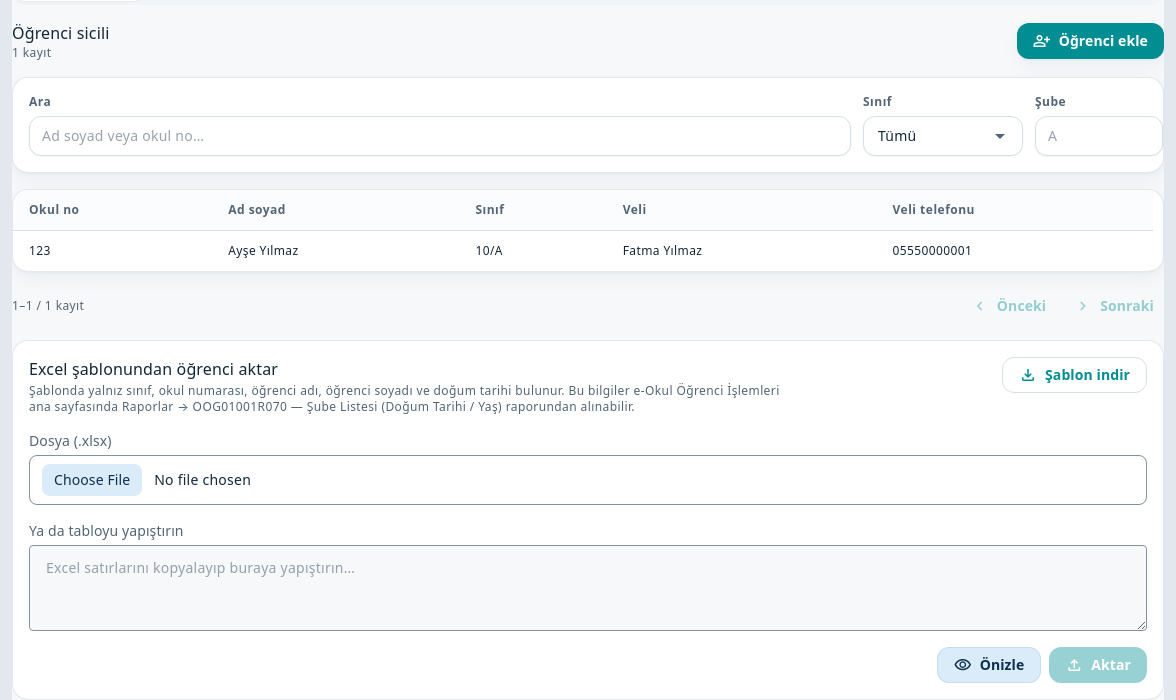
Test: KisilerPage — içe aktarma paneli › önizleme hatası: backend mesajı bantta görünür, Aktar kapalı kalır
(page scrolled)
Expected: the text "Ayşe Yılmaz" is shown, [212, 230, 459, 271]
In the text box labelled "Ya da tabloyu yapıştırın": (588, 588) [29, 545, 1147, 631], type "x"
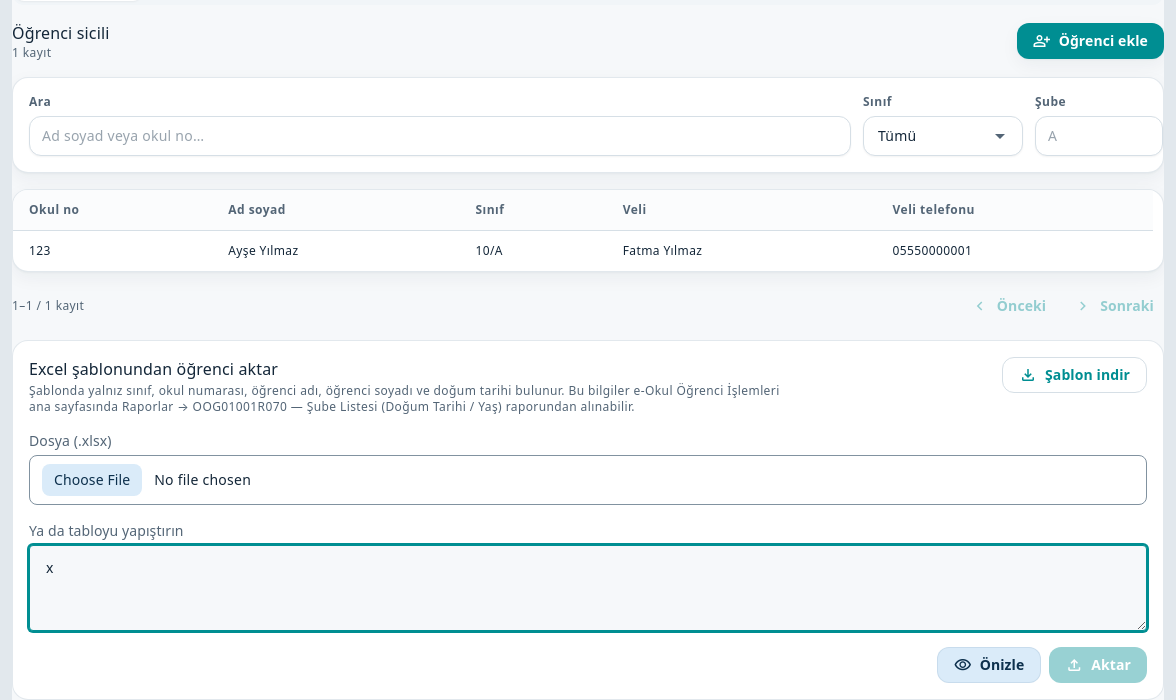
Click the button "Önizle": (989, 665) [937, 647, 1041, 683]
(page scrolled)
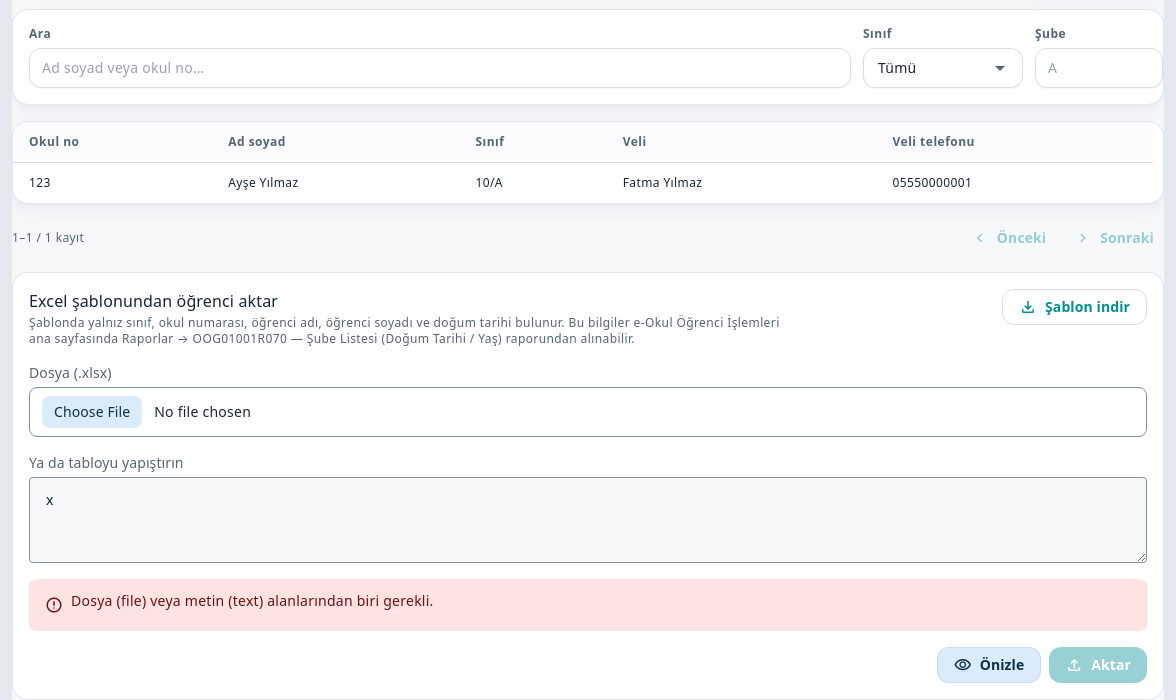
Expected: the button "Aktar" is disabled, [1049, 647, 1147, 683]
Result: the text "Dosya (file) veya metin (text) alanlarından biri gerekli." is shown at [71, 591, 434, 611]
